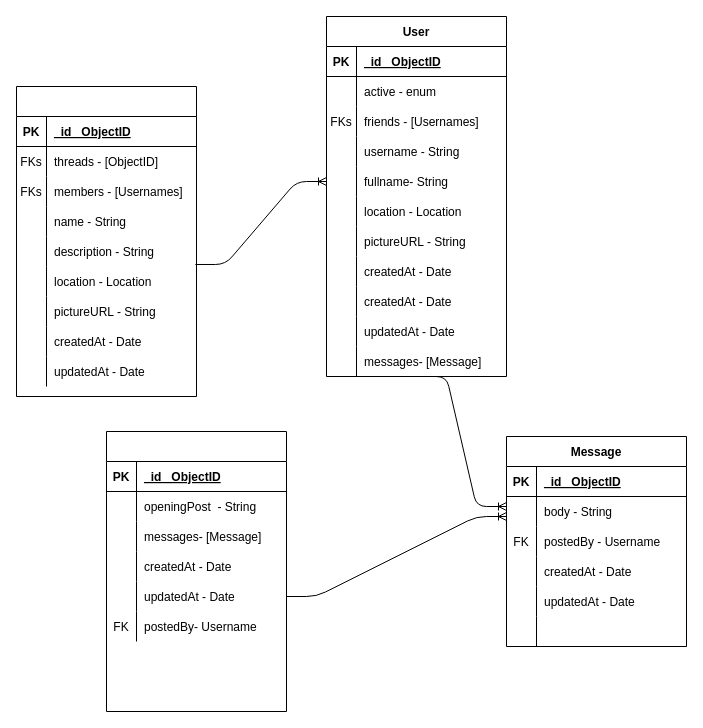
This 703x728 diagram has some shape labels left out. The shapes that lost their labels are listed below. From the top down, each one's box as (x1, y1, x2, y2) in pixels, then its label:
(16, 86, 196, 396): Group
(106, 430, 286, 712): Thread
